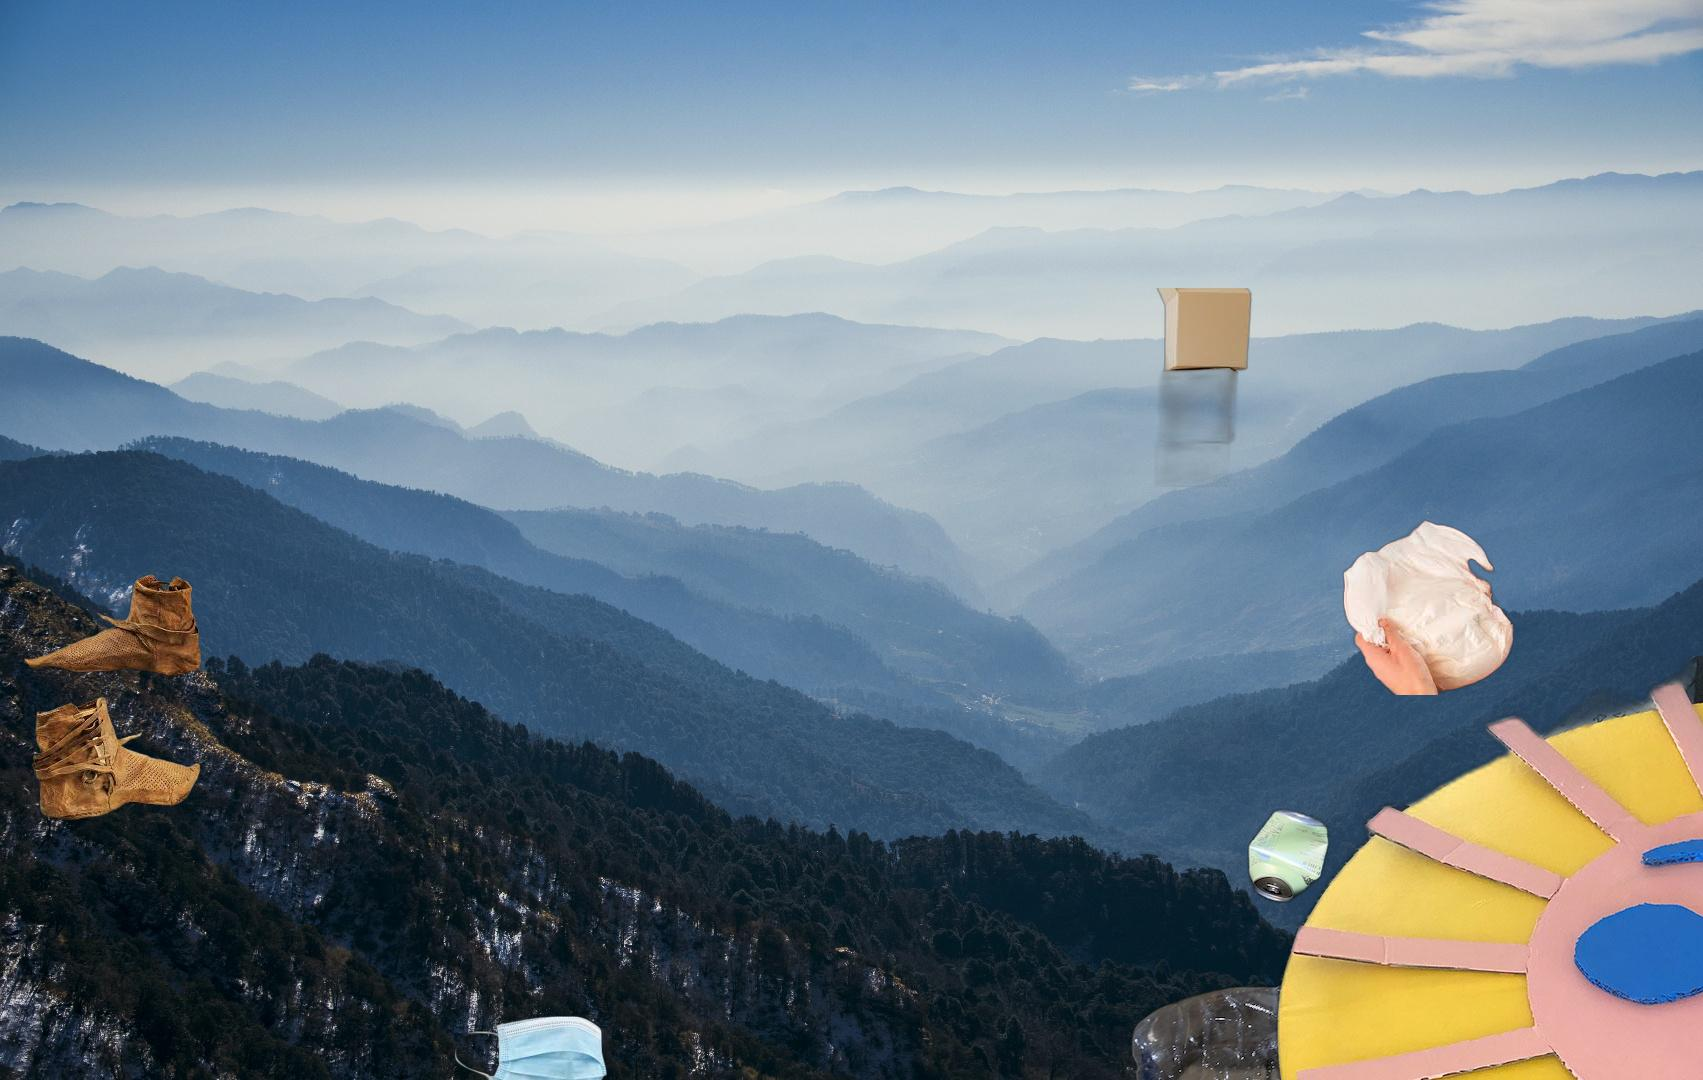metal-cans: (1454, 960, 1602, 1080), (1244, 803, 1334, 907)
plastic-bottles: (1126, 968, 1454, 1080)
shoes: (24, 572, 204, 824)
trash: (1341, 518, 1544, 695), (452, 1013, 609, 1080)
trashbox-cardboard: (1269, 655, 1703, 1080), (1041, 288, 1255, 487)
